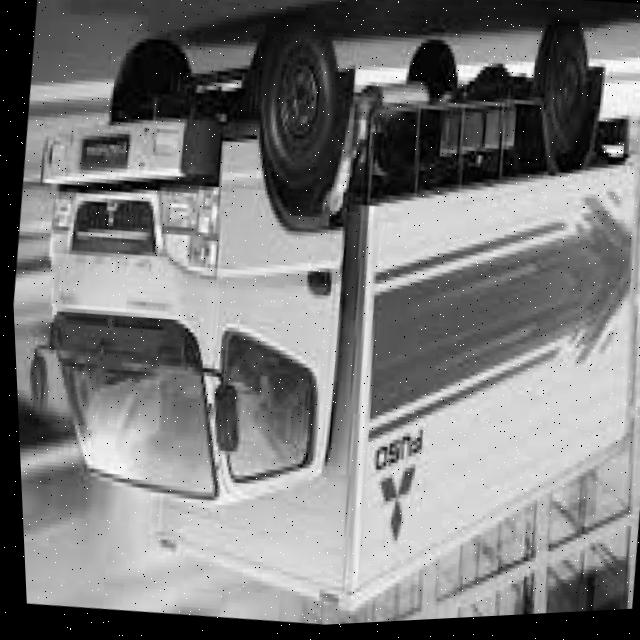truck: (2, 16, 404, 565)
